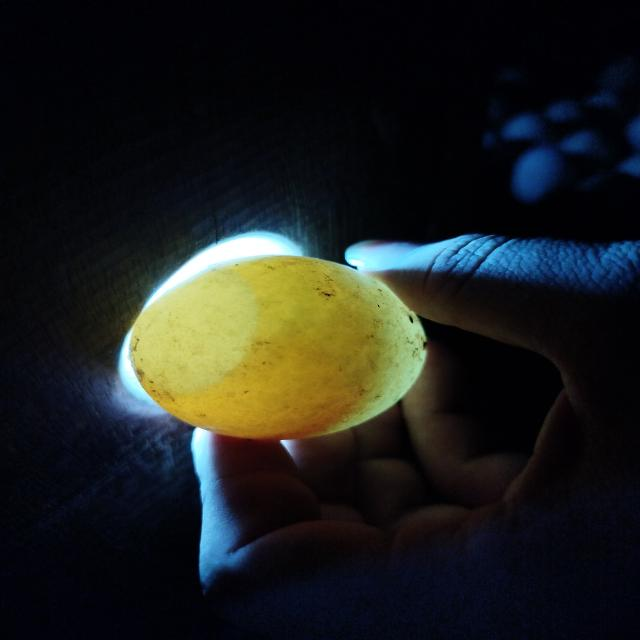Camara de Ar: (130, 266, 256, 393)
Gema Quebrada: (233, 396, 366, 441)
